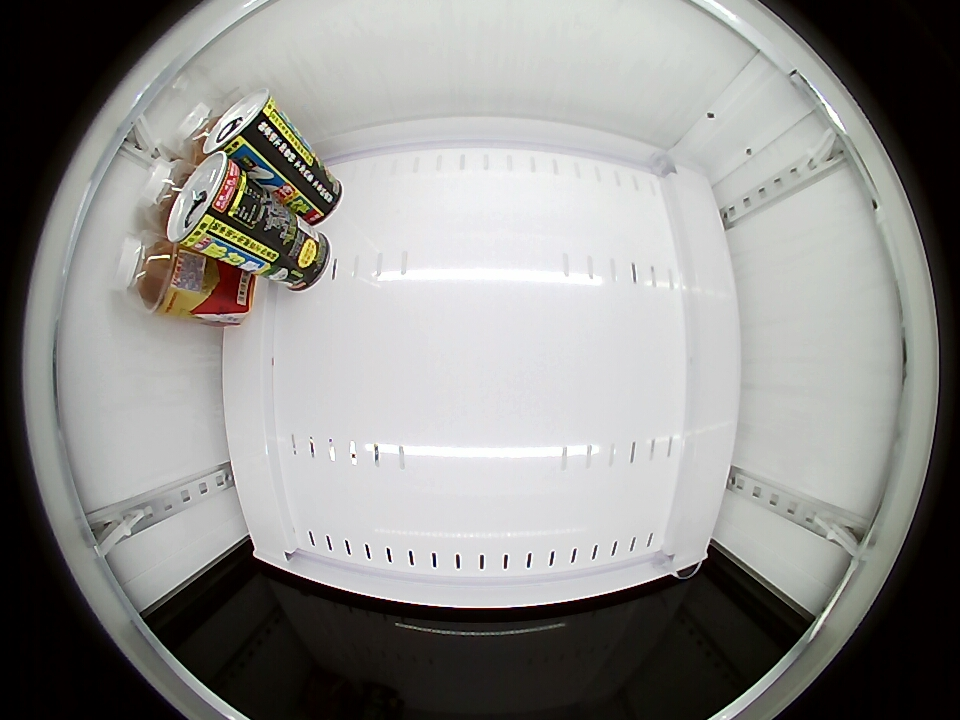dongpeng-b: (112, 234, 186, 314), (138, 158, 192, 222), (173, 102, 221, 161)
yezhi: (168, 150, 254, 254), (205, 88, 281, 161)
